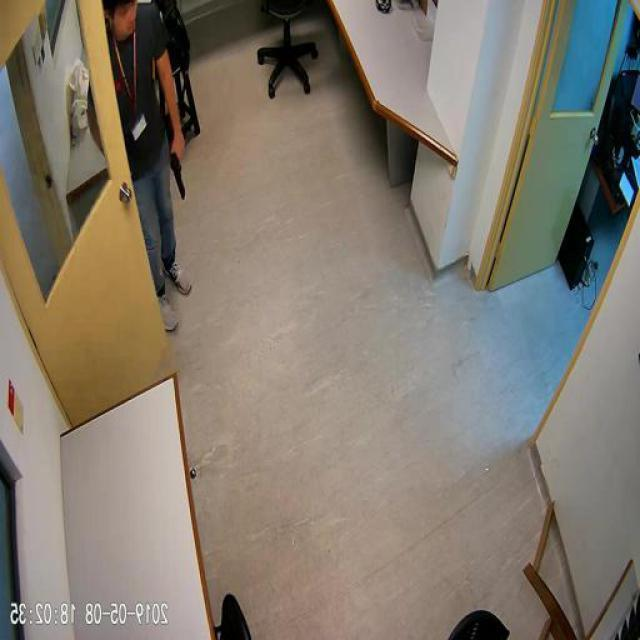weapon: (166, 134, 188, 202)
